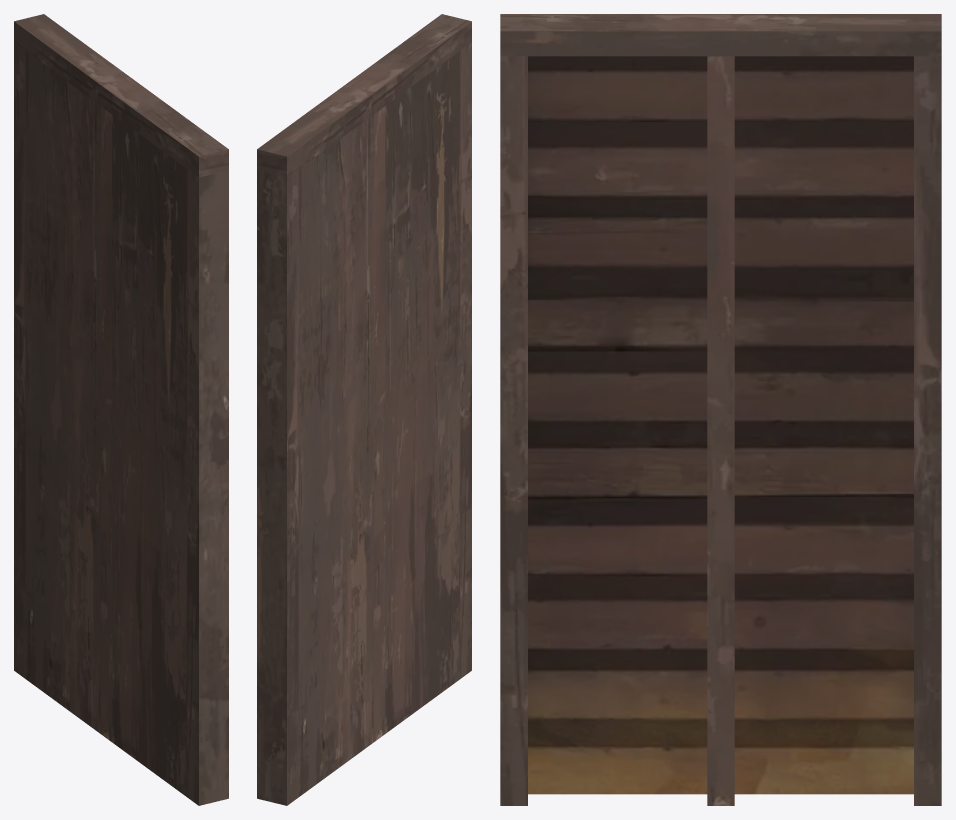
3 views of the same model, side by side, from view 1: azimuth 30°, elevation 25°; view 2: azimuth 150°, elevation 25°; view 3: azimuth 270°, elevation 25° (orthographic). The views are drawn at different scales.
Parts seen in each view (by area): view 1: body0_model0_lod0_mesh0; view 2: body0_model0_lod0_mesh0; view 3: body0_model0_lod0_mesh1, body0_model0_lod0_mesh0.
Boxes of the visible parts, left/top/right/bottom form: body0_model0_lod0_mesh0: left=14, top=14, right=228, bottom=805; body0_model0_lod0_mesh0: left=257, top=14, right=471, bottom=805; body0_model0_lod0_mesh1: left=528, top=56, right=913, bottom=794; body0_model0_lod0_mesh0: left=500, top=14, right=941, bottom=805.
Bounding box in the file's own units: 12.08 × 248 × 128.
Materials: 2 (2 with a texture image).
